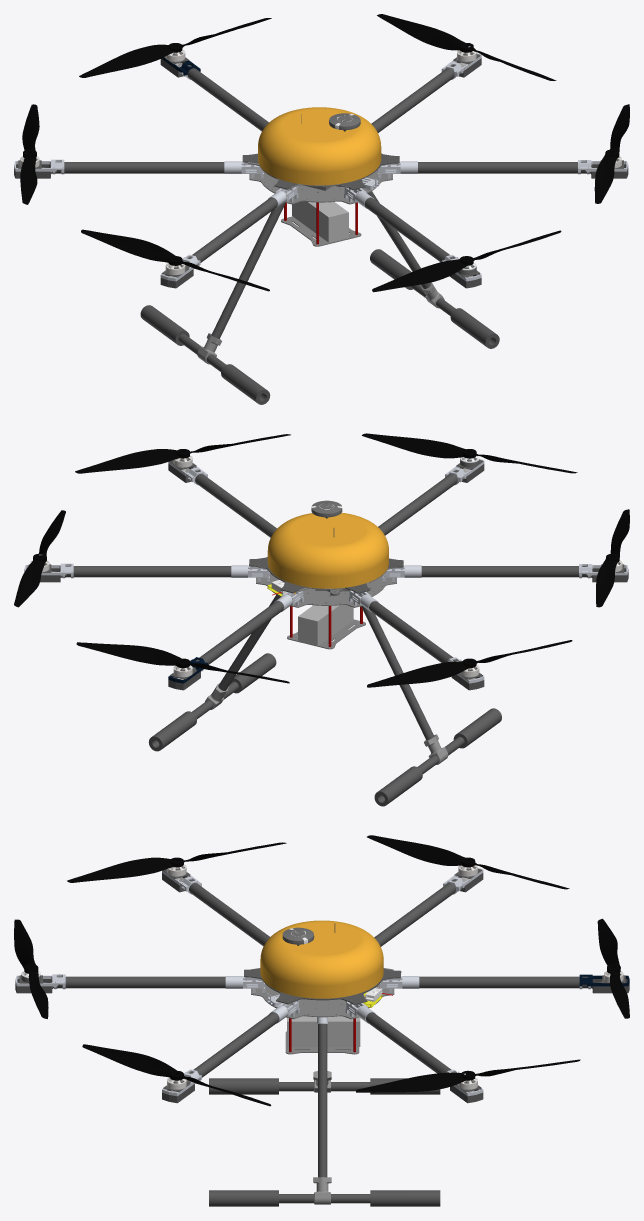
The model's file is 1450 hexa drone.gltf.
3 renders of one model, top to bottom at view 1: azimuth 30°, elevation 25°; view 2: azimuth 150°, elevation 25°; view 3: azimuth 270°, elevation 25°, orthographic.
Parts seen in each view (by area): view 1: Body_1 (×15), 3DGeom-12212 (×6); view 2: Body_1 (×15), 3DGeom-12212 (×6); view 3: Body_1 (×13), 3DGeom-12212 (×6).
Part boxes in pixels (x1=…): Body_1 (×15): x1=52, y1=65, x2=590, y2=404; 3DGeom-12212 (×6): x1=20, y1=14, x2=629, y2=292; Body_1 (×15): x1=61, y1=470, x2=591, y2=806; 3DGeom-12212 (×6): x1=14, y1=433, x2=629, y2=687; Body_1 (×13): x1=53, y1=879, x2=591, y2=1206; 3DGeom-12212 (×6): x1=14, y1=835, x2=629, y2=1106.
Size of the model in its own units: 1.37 by 0.5254 by 1.32.
